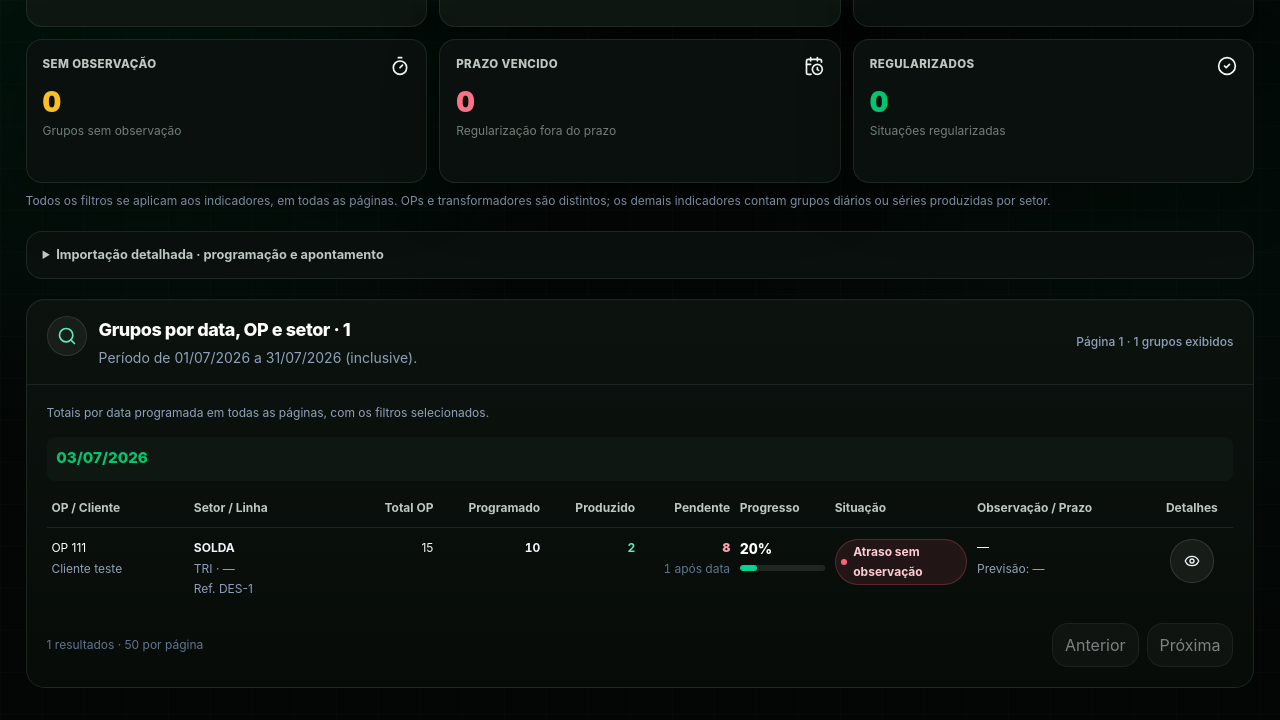
Test: Visão OP — concorrência e contexto › fecha modal cancelando GETs e mantém o período selecionado nos detalhes
(page scrolled)
Step 1. Click the button "OP 111" → (69, 548), box x1=51 y1=539 x2=86 y2=557
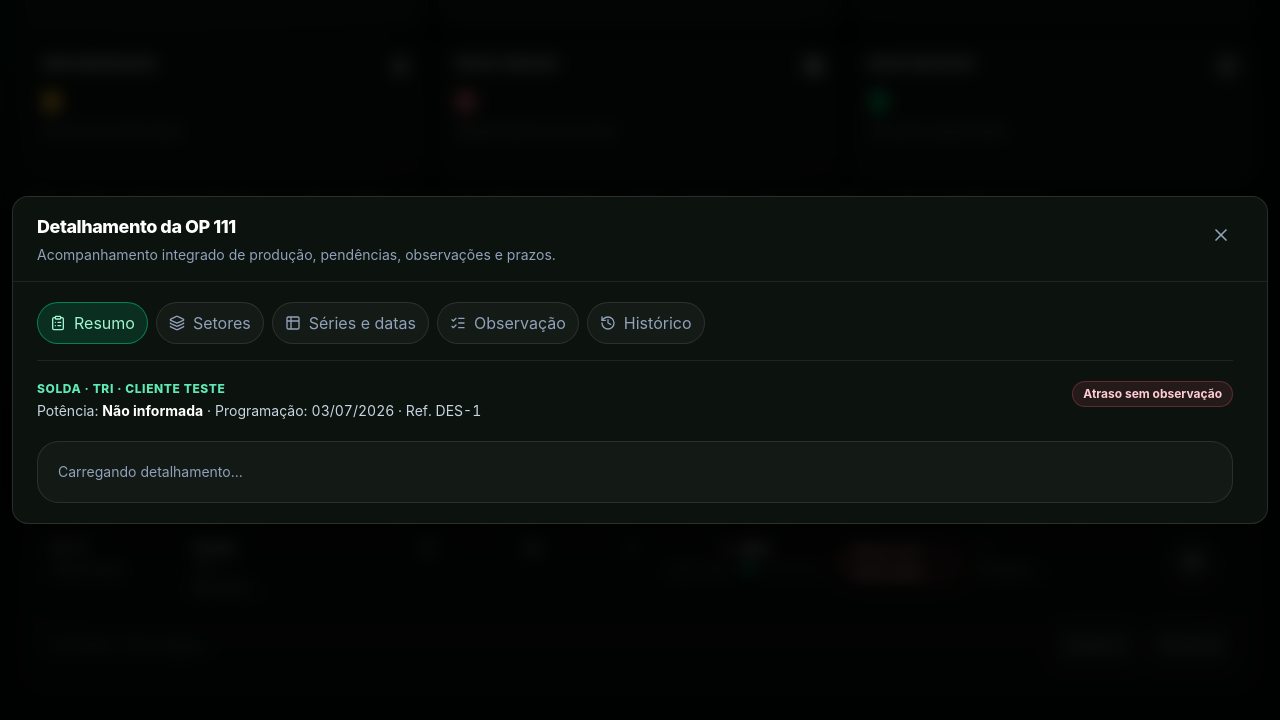
Now the text "Carregando detalhamento..." is shown, box x1=37 y1=441 x2=1233 y2=503
Step 2. Press Escape
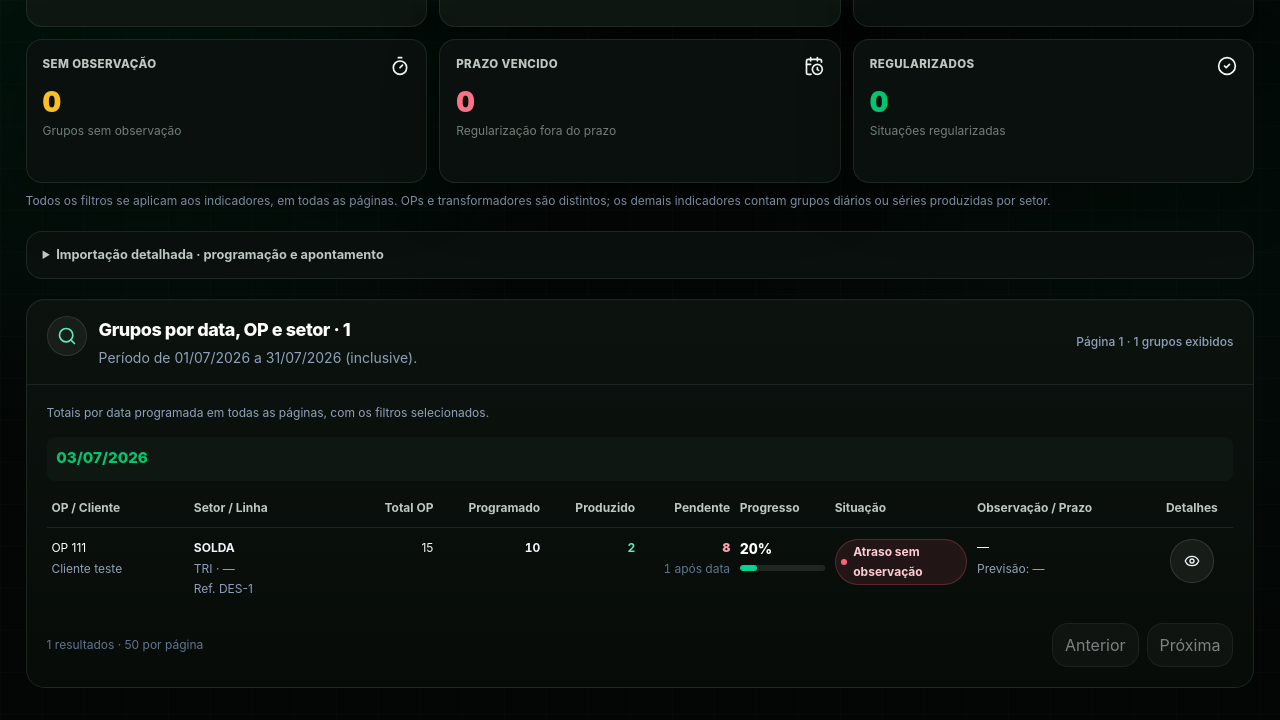
Now the dialog is gone
